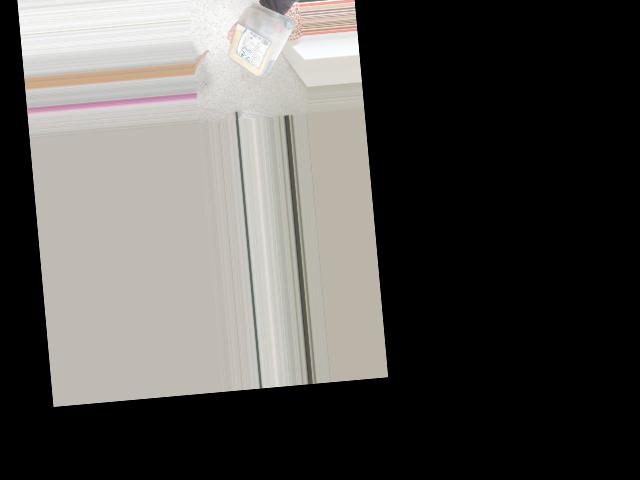cheese: (225, 7, 290, 77)
